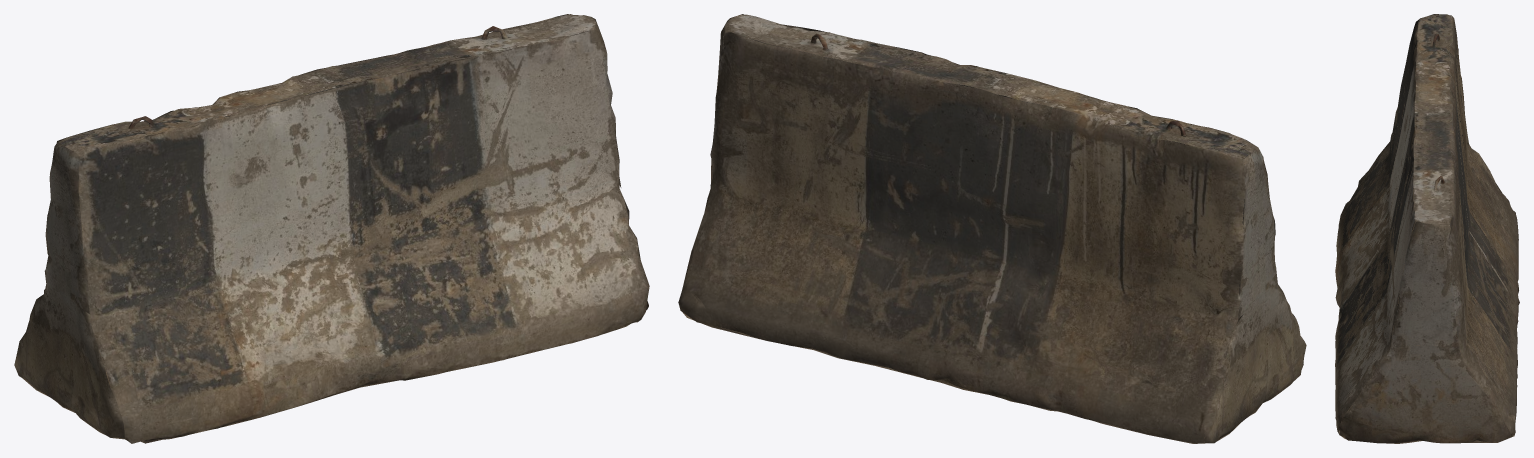
File: concrete_barrier.glb
The picture shows the model from 3 angles, left to right: view 1: azimuth 30°, elevation 25°; view 2: azimuth 150°, elevation 25°; view 3: azimuth 270°, elevation 25°; orthographic projection. The views are drawn at different scales.
Parts seen in each view (by area): view 1: concrete_barrier; view 2: concrete_barrier; view 3: concrete_barrier.
Part boxes in pixels (x1,y1,x2,y2): concrete_barrier: [14, 14, 649, 443]; concrete_barrier: [678, 14, 1306, 443]; concrete_barrier: [1335, 14, 1519, 443].
Size of the model in its own units: 1.8 by 0.9 by 0.65.
1 material, 1 textured.
